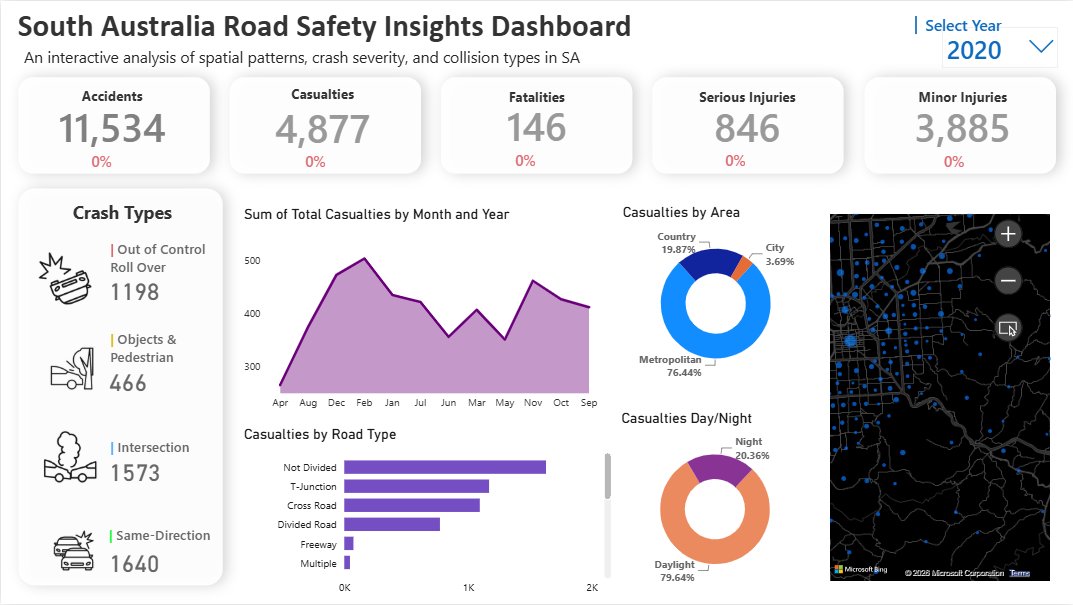

Layout of this report page (visuals, bound fields, positions):
{"tool":"powerbi","page":{"name":"Page 1","canvas":[1280,720],"ordinal":0},"visuals":[{"type":"group","id":"g1","title":"Group 2","box":[286.1,100.1,195,119.4],"z":0,"group":"g3"},{"type":"group","id":"g2","title":"Group 3","box":[286.1,100.1,195,119.4],"z":0,"group":"g1"},{"type":"cardVisual","title":"Casualties","fields":{"Data":["bb05bb0d-f9a4-4638-8992-81d5fb9.CY Casualties"]},"box":[286.1,100.1,195,87.5],"z":0,"group":"g2"},{"type":"cardVisual","title":"Accidents","fields":{"Data":["bb05bb0d-f9a4-4638-8992-81d5fb9.Total CY Accidents"]},"box":[35.2,101.9,194,84],"z":0,"group":"g4"},{"type":"cardVisual","title":" Minor Injuries","fields":{"Data":["bb05bb0d-f9a4-4638-8992-81d5fb9.CY Casualties"]},"box":[1050,102.5,195.3,82.7],"z":0,"group":"g7"},{"type":"cardVisual","title":" Serious Injuries","fields":{"Data":["bb05bb0d-f9a4-4638-8992-81d5fb9.CY Casualties"]},"box":[792,102.9,197.3,82],"z":0,"group":"g6"},{"type":"cardVisual","title":"Fatalities","fields":{"Data":["bb05bb0d-f9a4-4638-8992-81d5fb9.CY Casualties"]},"box":[541.4,103.1,196.2,81.5],"z":0,"group":"g5"},{"type":"shape","title":"LEFT Bottom","box":[0,202.9,285.7,515.7],"z":0},{"type":"cardVisual","fields":{"Data":["bb05bb0d-f9a4-4638-8992-81d5fb9.YoY Casualties"]},"box":[835.4,156,131.5,65.1],"z":1000,"group":"g6"},{"type":"cardVisual","fields":{"Data":["bb05bb0d-f9a4-4638-8992-81d5fb9.YoY Casualties"]},"box":[584.8,156.2,130.3,63.9],"z":1000,"group":"g5"},{"type":"cardVisual","fields":{"Data":["bb05bb0d-f9a4-4638-8992-81d5fb9.YoY Casualties"]},"box":[333.2,159.2,131.5,60.3],"z":1000,"group":"g2"},{"type":"cardVisual","fields":{"Data":["bb05bb0d-f9a4-4638-8992-81d5fb9.YoY Casualties"]},"box":[1095.8,159.2,131.5,60.3],"z":1000,"group":"g7"},{"type":"cardVisual","fields":{"Data":["bb05bb0d-f9a4-4638-8992-81d5fb9.YoY Accidents"]},"box":[78.6,159.8,131.5,61.5],"z":1000,"group":"g4"},{"type":"cardVisual","title":"vasdv","fields":{"Data":["bb05bb0d-f9a4-4638-8992-81d5fb9.CY Casualties"],"Rows":["bb05bb0d-f9a4-4638-8992-81d5fb9.Crash Type (groups)"]},"box":[97.1,267.1,378.6,434.3],"z":1000},{"type":"shape","title":"Card 1","box":[0,70,270.2,156.8],"z":2000},{"type":"shape","title":"Card 3","box":[504.9,70,270.2,156.8],"z":3000},{"type":"image","box":[24.3,273.4,105.7,117.1],"z":3000,"group":"g8"},{"type":"shape","title":"Card 2","box":[252.4,70,270.2,156.8],"z":4000},{"type":"shape","title":"Card 4","box":[757.3,70,270.2,156.8],"z":5000},{"type":"image","box":[42.9,383.4,91.4,110],"z":5000,"group":"g8"},{"type":"shape","title":"Card 5","box":[1009.8,70,270.2,156.8],"z":6000},{"type":"image","box":[31.4,469.1,98.6,151.4],"z":7000,"group":"g8"},{"type":"slicer","title":"Select Year","fields":{"Values":["Calendar.Year"]},"box":[1117.1,24.3,152.9,67.1],"z":8000},{"type":"image","box":[50,596.3,77.1,122.9],"z":9000,"group":"g8"},{"type":"group","id":"g3","title":"Group 1","box":[286.1,100.1,195,119.4],"z":10000},{"type":"group","id":"g4","title":"Group 1","box":[35.2,101.9,194,119.4],"z":11000},{"type":"group","id":"g5","title":"Group 3","box":[541.4,103.1,196.2,117],"z":12000},{"type":"group","id":"g6","title":"Group 3","box":[792,102.9,197.3,118.2],"z":13000},{"type":"group","id":"g7","title":"Group 3","box":[1050,102.5,195.3,117],"z":14000},{"type":"textbox","box":[14.3,1.4,748.6,67.1],"z":15000},{"type":"textbox","box":[80,232.9,165.7,68.6],"z":16000},{"type":"areaChart","fields":{"Category":["Calendar.Month"],"Y":["Sum(bb05bb0d-f9a4-4638-8992-81d5fb9.Total Casualties)"],"Series":["Calendar.Date.Variation.Date Hierarchy.Year"]},"box":[285.7,244.7,435.7,252.9],"z":17000},{"type":"donutChart","title":"Casualties by Area","fields":{"Y":["bb05bb0d-f9a4-4638-8992-81d5fb9.CY Casualties"],"Category":["bb05bb0d-f9a4-4638-8992-81d5fb9.Stats Area.2"]},"box":[737.5,241.9,232.5,220],"z":18000},{"type":"donutChart","title":"Casualties Day/Night","fields":{"Y":["bb05bb0d-f9a4-4638-8992-81d5fb9.CY Casualties"],"Category":["bb05bb0d-f9a4-4638-8992-81d5fb9.DayNight"]},"box":[736.2,488.1,233.8,218.8],"z":19000},{"type":"barChart","title":"Casualties by Road Type","fields":{"Y":["bb05bb0d-f9a4-4638-8992-81d5fb9.CY Casualties"],"Category":["bb05bb0d-f9a4-4638-8992-81d5fb9.Position Type"]},"box":[285.7,507.6,448.6,211.4],"z":20000},{"type":"map","title":"Casualties by Location","fields":{"Size":["bb05bb0d-f9a4-4638-8992-81d5fb9.CY Casualties"],"Category":["bb05bb0d-f9a4-4638-8992-81d5fb9.Full_Address"]},"box":[985.7,230.4,272.9,468.6],"z":21000},{"type":"textbox","box":[124.7,278.6,240,55.7],"z":22000},{"type":"textbox","box":[124.7,387.1,238.6,57.1],"z":23000},{"type":"textbox","box":[124.7,515.7,125.7,55.7],"z":24000},{"type":"textbox","box":[124.3,621.4,145.7,55.7],"z":25000},{"type":"group","id":"g8","title":"Group 4","box":[24.3,273.4,110,445.7],"z":26000},{"type":"textbox","box":[1098.6,10,115.7,44.3],"z":27000},{"type":"shape","box":[974.2,18.3,235.8,21.7],"z":28000},{"type":"textbox","box":[22.9,48.6,700,40],"z":29000}]}

Visuals, with their boxes in screenshot pixels (x1, y1, x2, y2), scaled from the page's 1280x720 canvas onto the 1073x605 screenshot:
"Group 2" group: 240, 84, 403, 184
"Group 3" group: 240, 84, 403, 184
"Casualties" cardVisual: 240, 84, 403, 158
"Accidents" cardVisual: 30, 86, 192, 156
" Minor Injuries" cardVisual: 880, 86, 1044, 156
" Serious Injuries" cardVisual: 664, 86, 829, 155
"Fatalities" cardVisual: 454, 87, 618, 155
"LEFT Bottom" shape: 0, 170, 239, 604
cardVisual - bb05bb0d-f9a4-4638-8992-81d5fb9.YoY Casualties: 700, 131, 811, 186
cardVisual - bb05bb0d-f9a4-4638-8992-81d5fb9.YoY Casualties: 490, 131, 599, 185
cardVisual - bb05bb0d-f9a4-4638-8992-81d5fb9.YoY Casualties: 279, 134, 390, 184
cardVisual - bb05bb0d-f9a4-4638-8992-81d5fb9.YoY Casualties: 919, 134, 1029, 184
cardVisual - bb05bb0d-f9a4-4638-8992-81d5fb9.YoY Accidents: 66, 134, 176, 186
"vasdv" cardVisual: 81, 224, 399, 589
"Card 1" shape: 0, 59, 227, 191
"Card 3" shape: 423, 59, 650, 191
image: 20, 230, 109, 328
"Card 2" shape: 212, 59, 438, 191
"Card 4" shape: 635, 59, 861, 191
image: 36, 322, 113, 415
"Card 5" shape: 846, 59, 1072, 191
image: 26, 394, 109, 521
"Select Year" slicer: 936, 20, 1065, 77
image: 42, 501, 107, 604
"Group 1" group: 240, 84, 403, 184
"Group 1" group: 30, 86, 192, 186
"Group 3" group: 454, 87, 618, 185
"Group 3" group: 664, 86, 829, 186
"Group 3" group: 880, 86, 1044, 184
textbox: 12, 1, 640, 58
textbox: 67, 196, 206, 253
areaChart - Calendar.Month x Sum(bb05bb0d-f9a4-4638-8992-81d5fb9.Total Casualties): 239, 206, 605, 418
"Casualties by Area" donutChart: 618, 203, 813, 388
"Casualties Day/Night" donutChart: 617, 410, 813, 594
"Casualties by Road Type" barChart: 239, 427, 616, 604
"Casualties by Location" map: 826, 194, 1055, 587
textbox: 105, 234, 306, 281
textbox: 105, 325, 305, 373
textbox: 105, 433, 210, 480
textbox: 104, 522, 226, 569
"Group 4" group: 20, 230, 113, 604
textbox: 921, 8, 1018, 46
shape: 817, 15, 1014, 34
textbox: 19, 41, 606, 74
